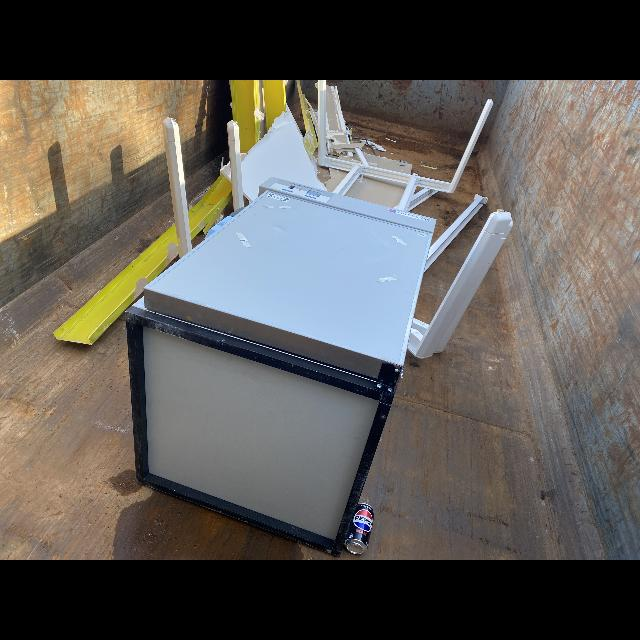Aluminium: (318, 80, 493, 213), (407, 212, 513, 358), (424, 194, 488, 272), (163, 118, 192, 259), (227, 121, 243, 211), (345, 539, 367, 555)
Ferrous Metal: (125, 177, 436, 558), (53, 223, 179, 346), (188, 173, 232, 240), (230, 80, 260, 152), (296, 80, 319, 159), (263, 80, 286, 131), (352, 137, 365, 139), (366, 139, 372, 140)
